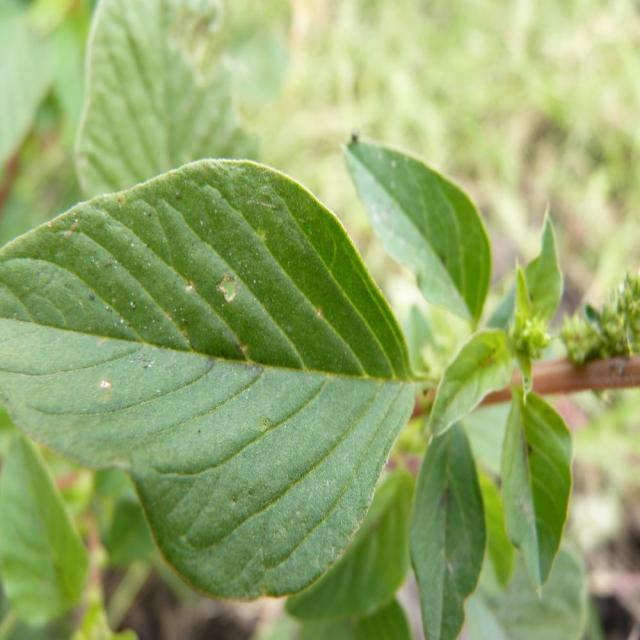Medicinal-Arive Dantu: (2, 138, 640, 628)
